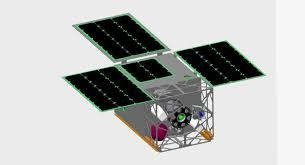body: (109, 46, 219, 153)
solar: (73, 12, 171, 63), (174, 38, 269, 89), (64, 64, 154, 113), (118, 57, 177, 84)
